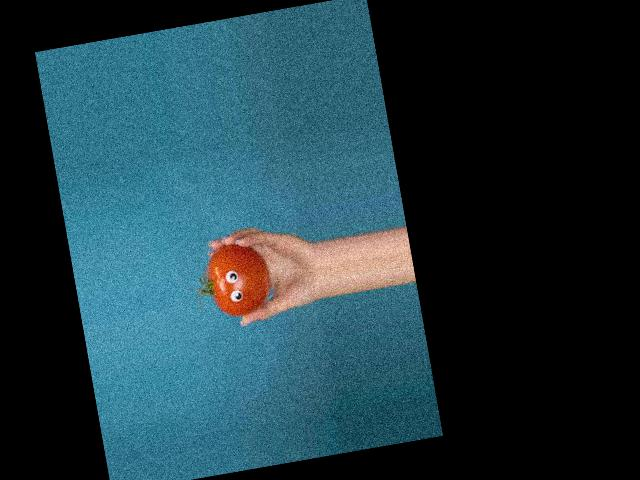tomato: (201, 238, 276, 321)
